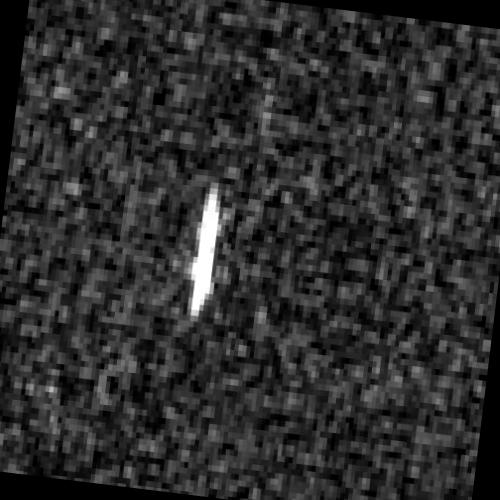ship: (187, 183, 222, 316)
